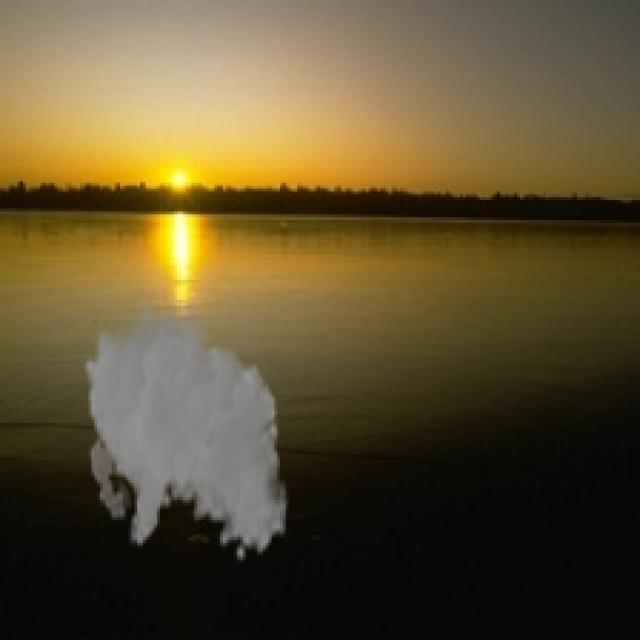smoke: (83, 291, 288, 563)
